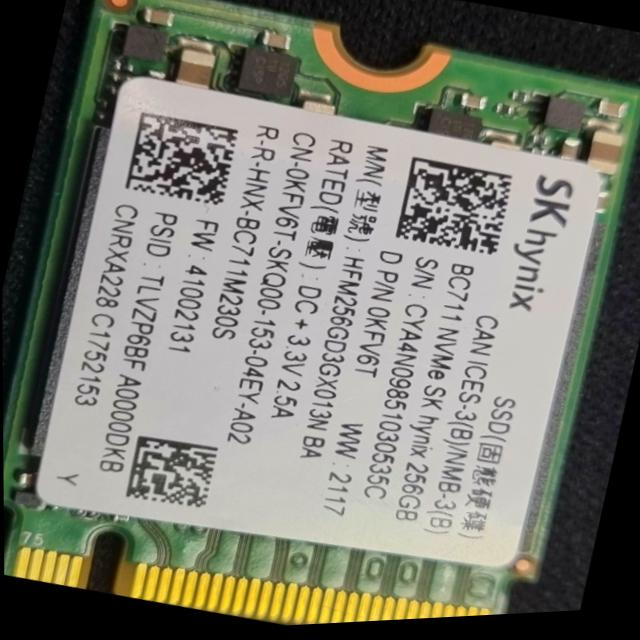datamatrix: (394, 158, 514, 266), (124, 110, 239, 213), (123, 432, 218, 517)
